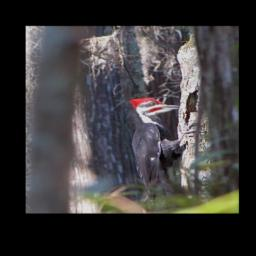Woodpecker: (126, 98, 207, 208)
